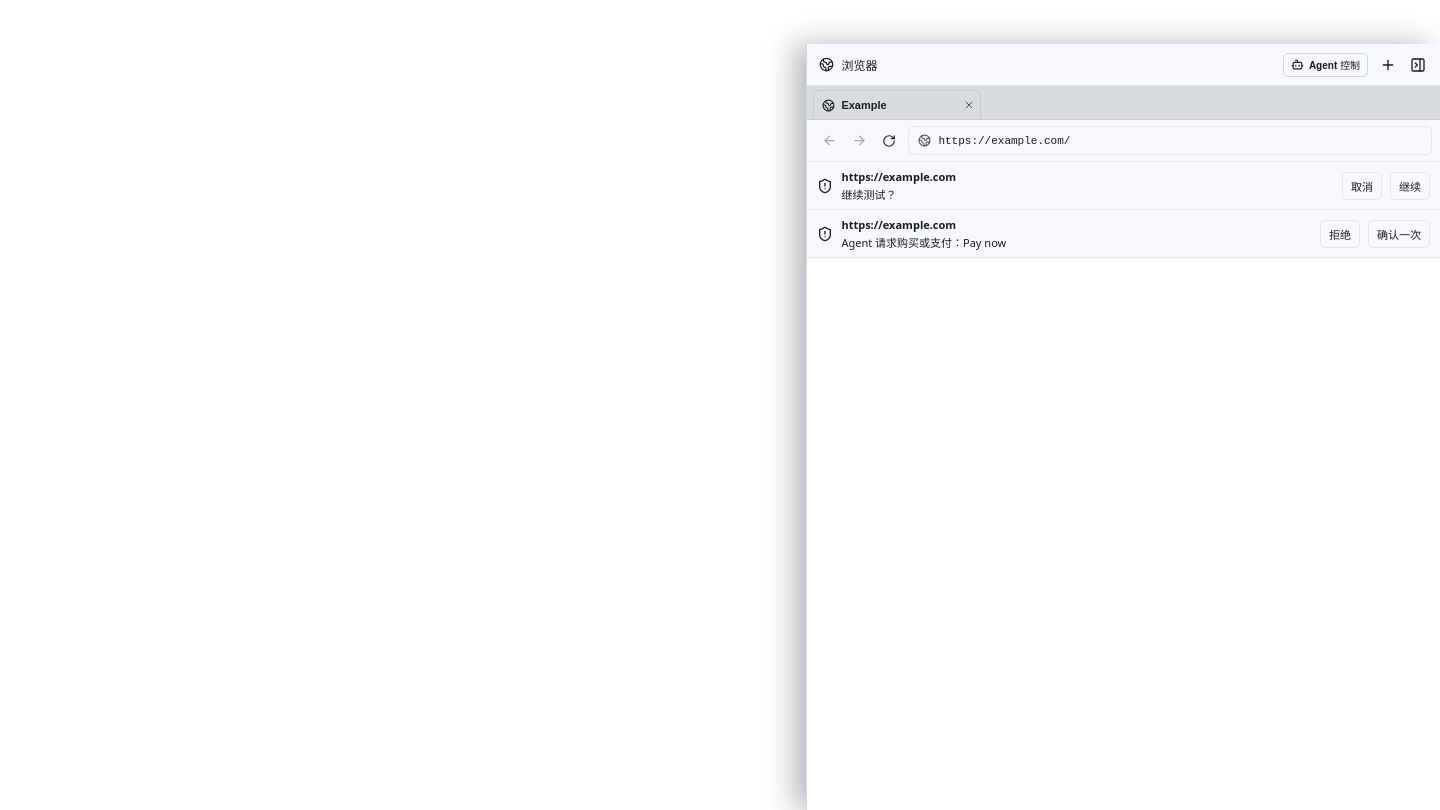
Test: BrowserSidebar › 展示 Agent 控制状态并允许用户主动接管同一 tab
expect the text "继续测试？" is shown: met, box x1=841 y1=187 x2=896 y2=202
Click the button "继续" at (1410, 186), box x1=1390 y1=172 x2=1430 y2=200
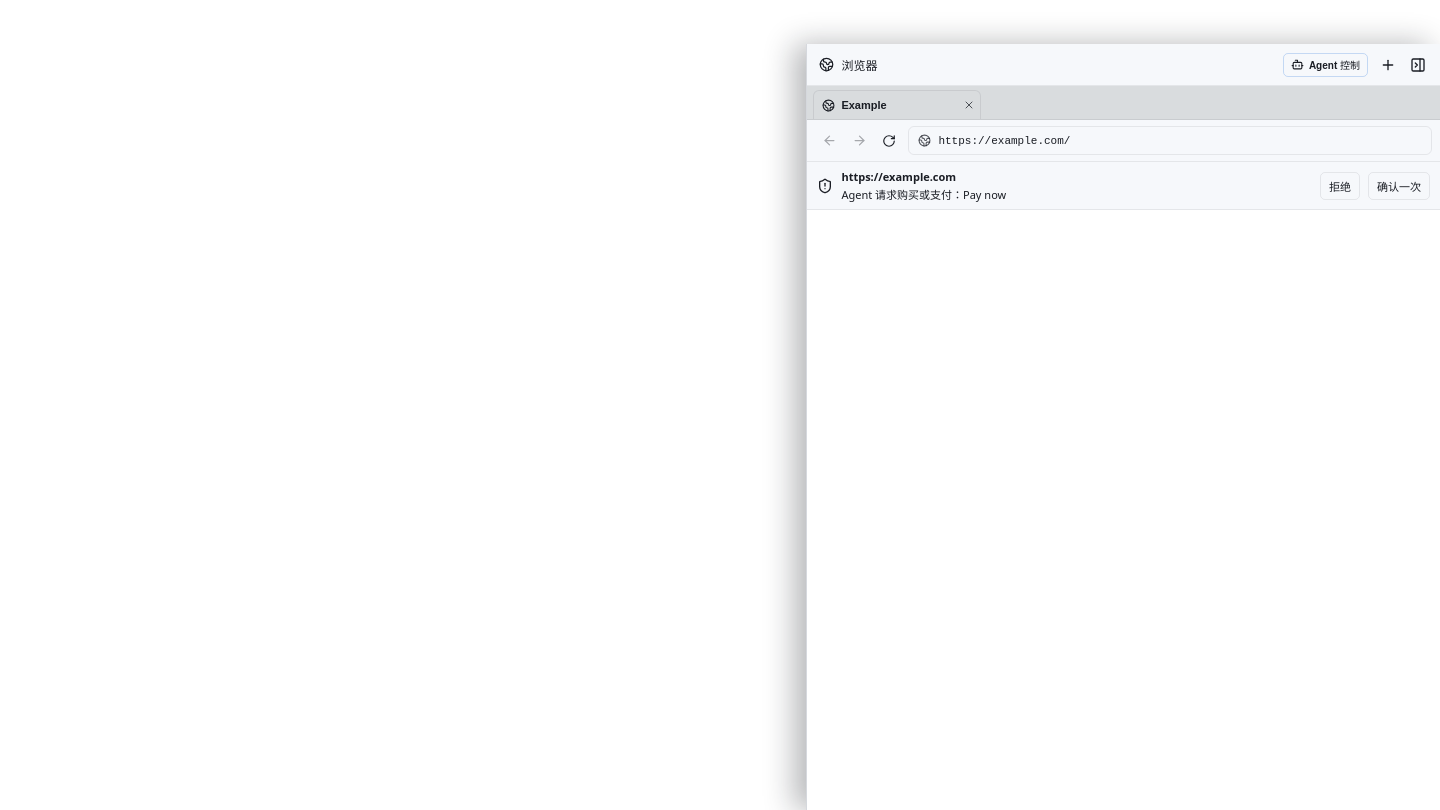
expect the text "Agent 请求购买或支付：Pay now" is shown: met, box x1=841 y1=187 x2=1006 y2=202
Click the button "确认一次" at (1399, 186), box x1=1368 y1=172 x2=1430 y2=200
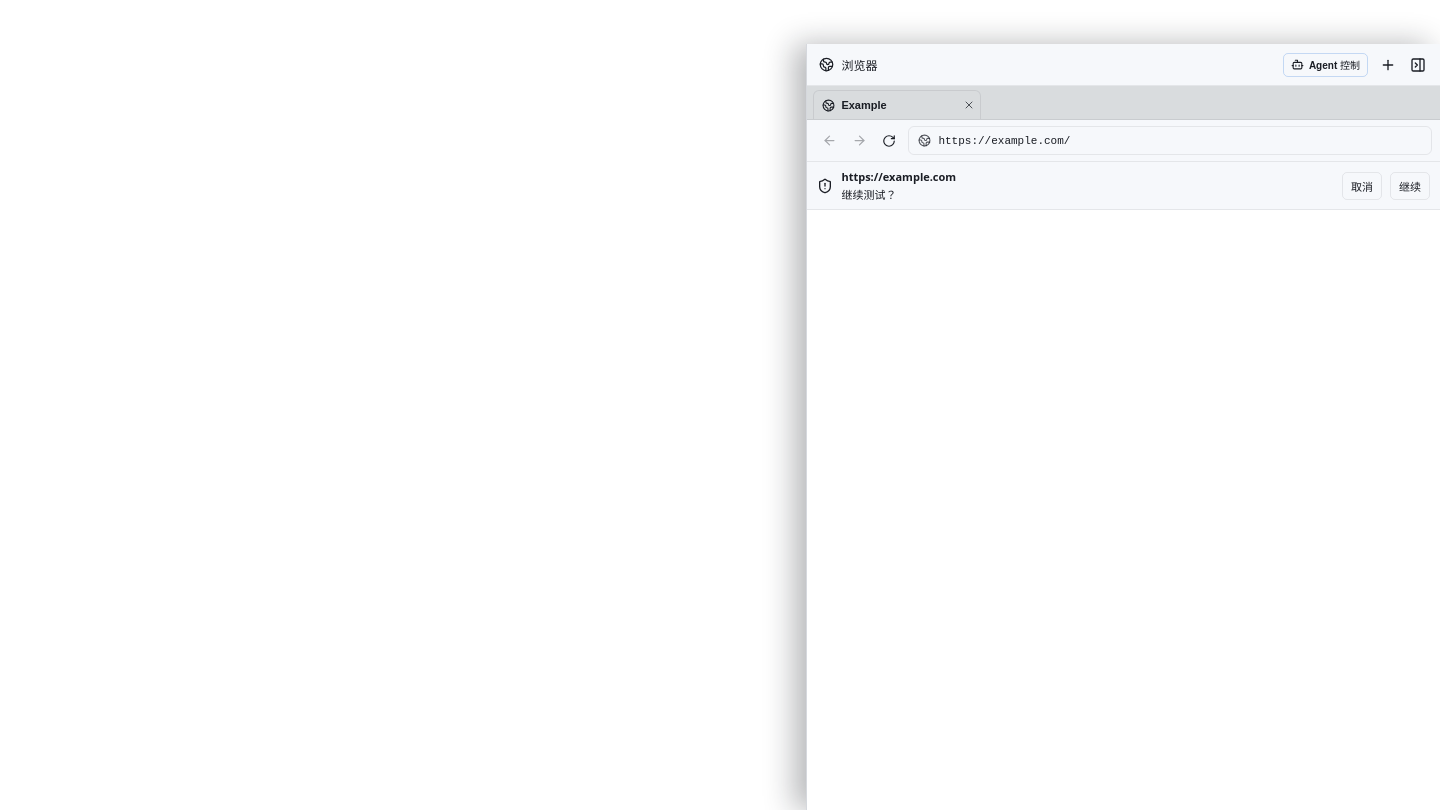
Click the button with aria-label "接管浏览器" at (1325, 64), box x1=1283 y1=52 x2=1368 y2=76
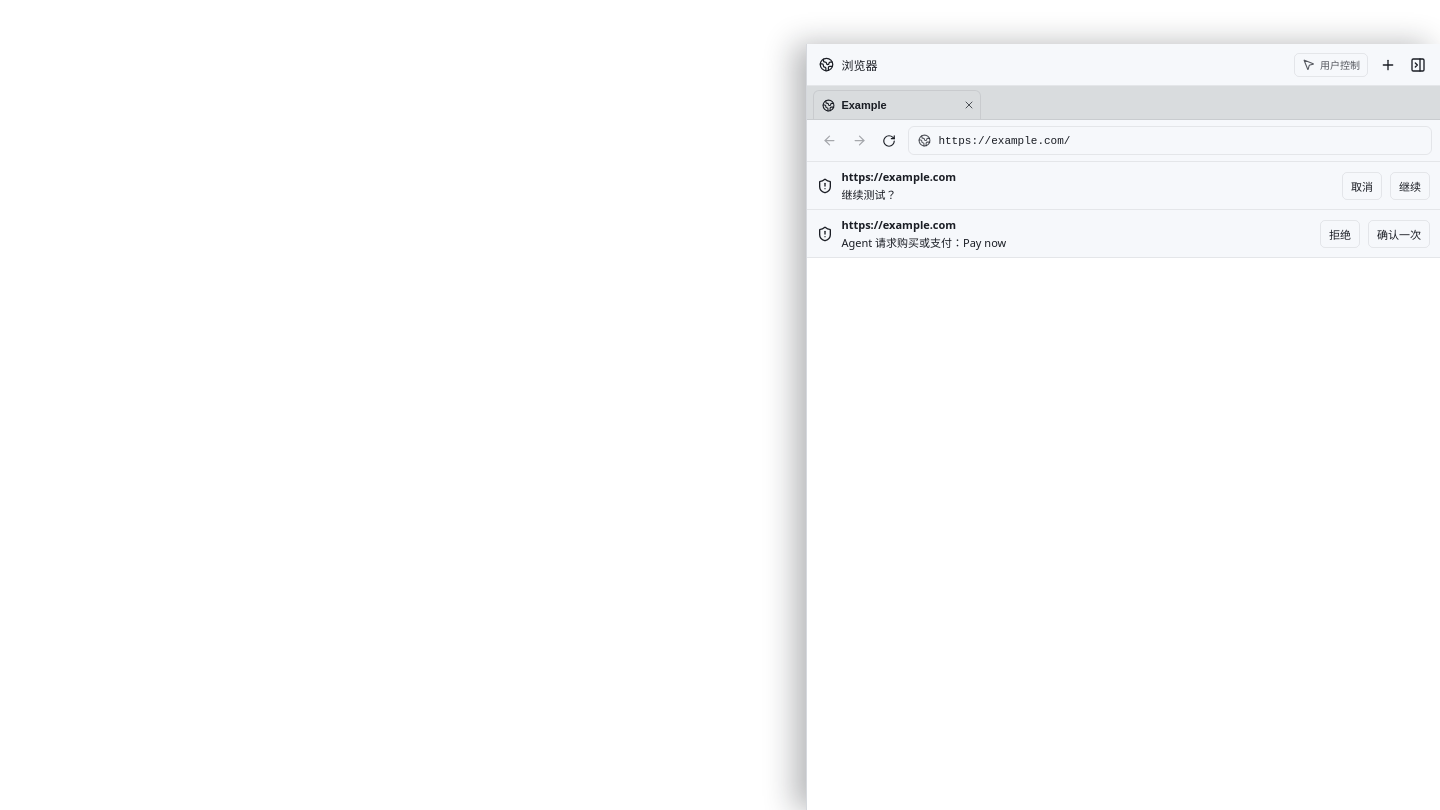
expect the element named "用户控制浏览器" is shown: met, box x1=1294 y1=52 x2=1368 y2=76
